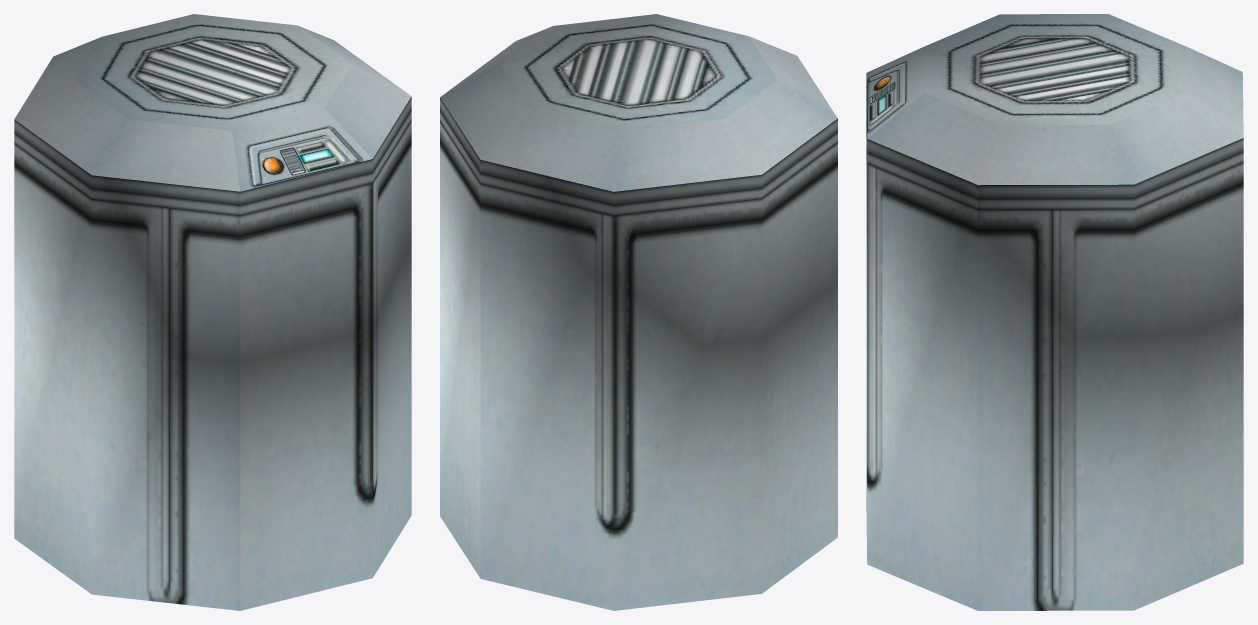
File: edb_con_barrel_lg_s1_l1.fbx
The picture shows the model from 3 angles, left to right: view 1: azimuth 30°, elevation 25°; view 2: azimuth 150°, elevation 25°; view 3: azimuth 270°, elevation 25°; orthographic projection.
Visible parts, largest first — view 1: mesh_node; view 2: mesh_node; view 3: mesh_node.
Part boxes in pixels (x1,y1,x2,y2): mesh_node: (14, 14, 411, 610); mesh_node: (440, 14, 837, 610); mesh_node: (866, 14, 1243, 610).
Bounding box in the file's own units: 0.7465 × 1.01 × 0.7465.
